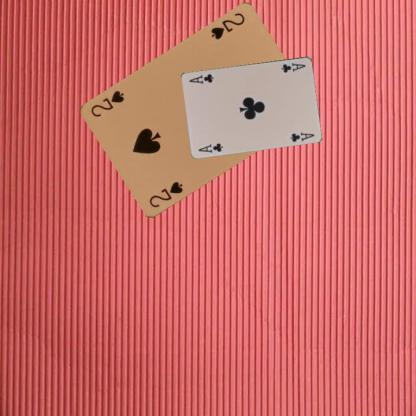2s: (208, 10, 246, 41), (146, 179, 184, 209)
Ac: (279, 60, 307, 74), (196, 140, 224, 154)
